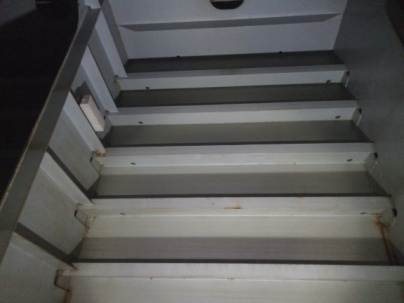corrosion: (373, 217, 399, 258)
